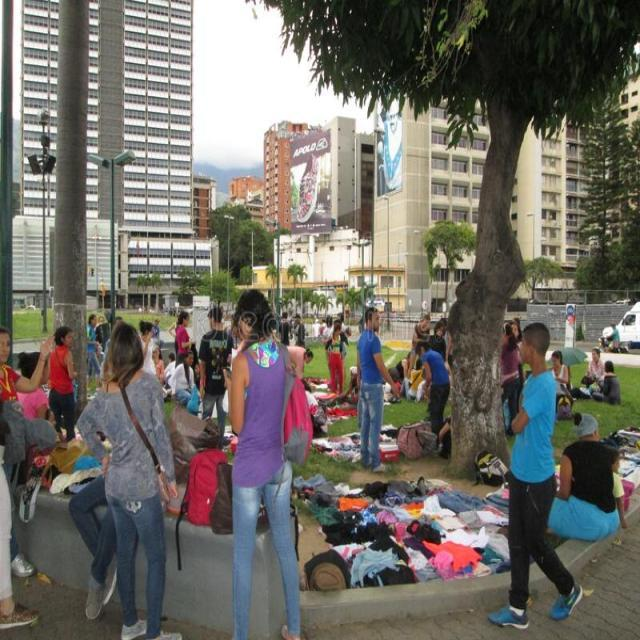clothes: (348, 492, 470, 570)
